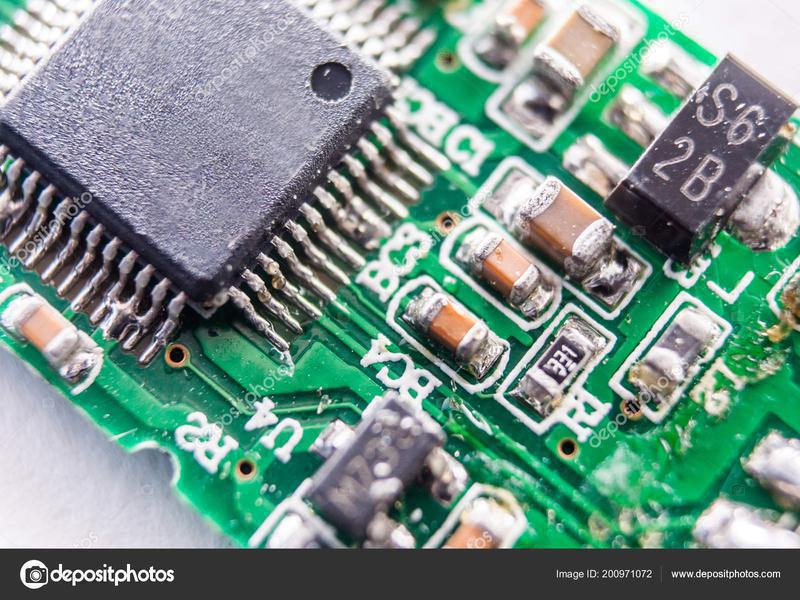SMD capacitor: (518, 172, 616, 269), (540, 1, 616, 96), (405, 286, 491, 366), (473, 230, 540, 305), (11, 295, 79, 364), (495, 1, 548, 47)
SMD resistor: (531, 324, 598, 421)
